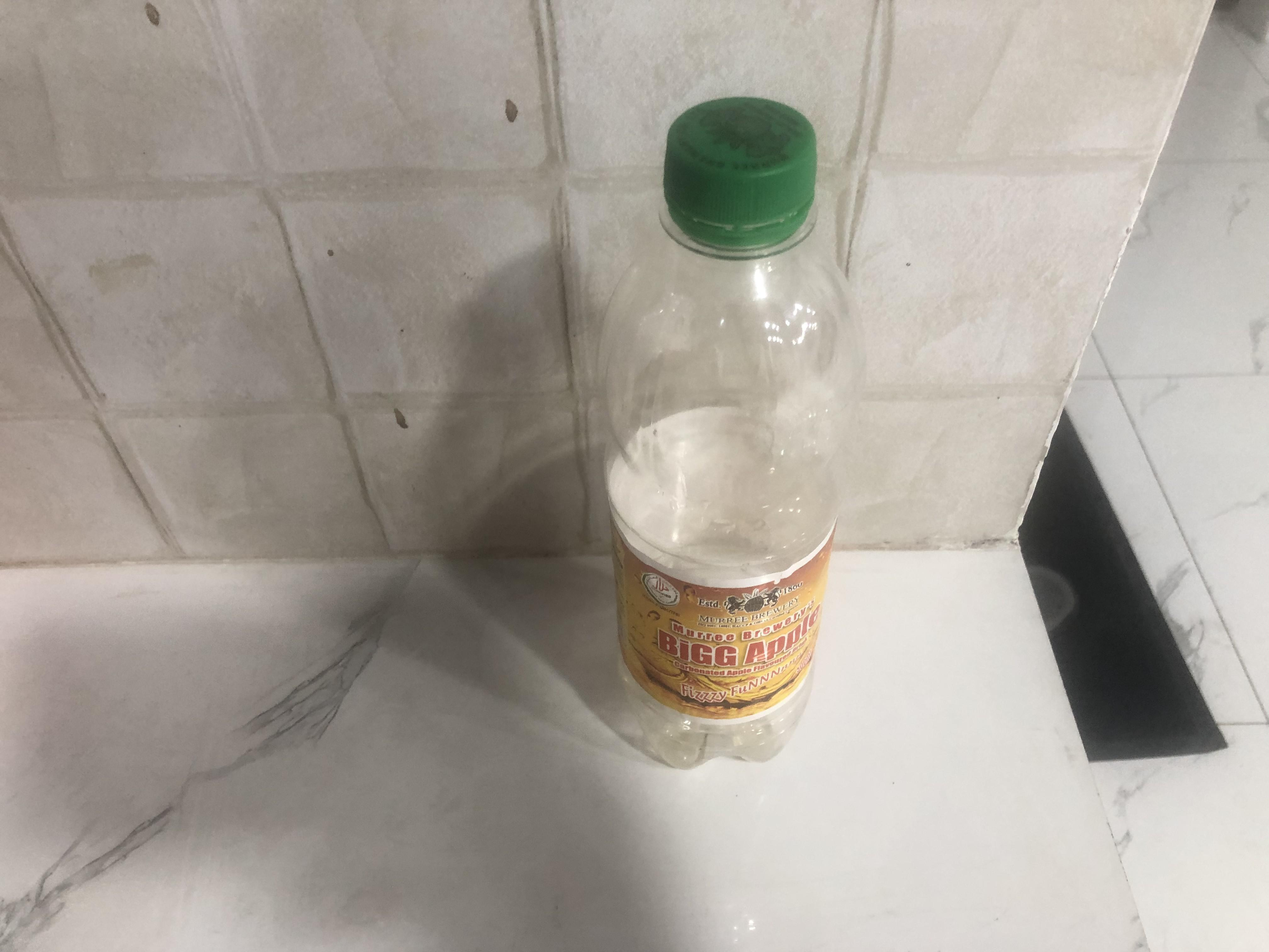bottle-plastic: (601, 95, 844, 768)
